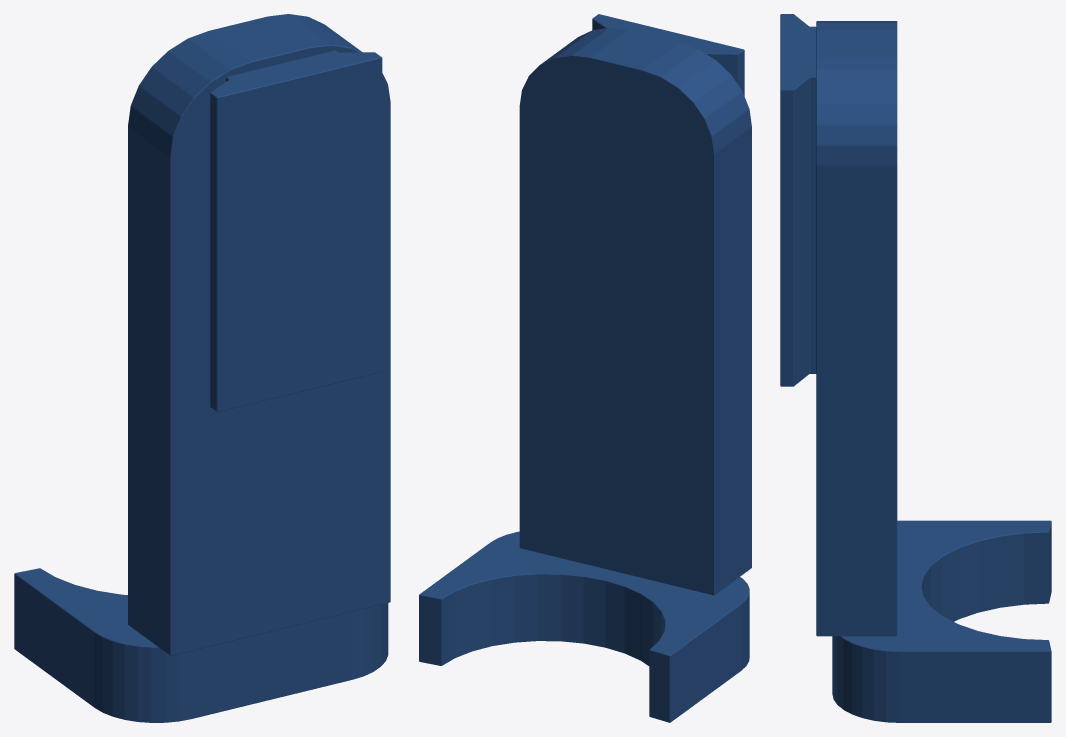
File: VIS_ShoulderLink3.dae
3 renders of one model, left to right at view 1: azimuth 30°, elevation 25°; view 2: azimuth 150°, elevation 25°; view 3: azimuth 270°, elevation 25°, orthographic. The views are drawn at different scales.
Parts seen in each view (by area): view 1: VIS_ShoulderLink3; view 2: VIS_ShoulderLink3; view 3: VIS_ShoulderLink3.
Boxes of the visible parts, x1,y1,x2,y2 form: VIS_ShoulderLink3: [14, 14, 390, 722]; VIS_ShoulderLink3: [419, 14, 751, 722]; VIS_ShoulderLink3: [780, 14, 1051, 722].
Bounding box in the file's own units: 0.1038 × 0.0908 × 0.227.
